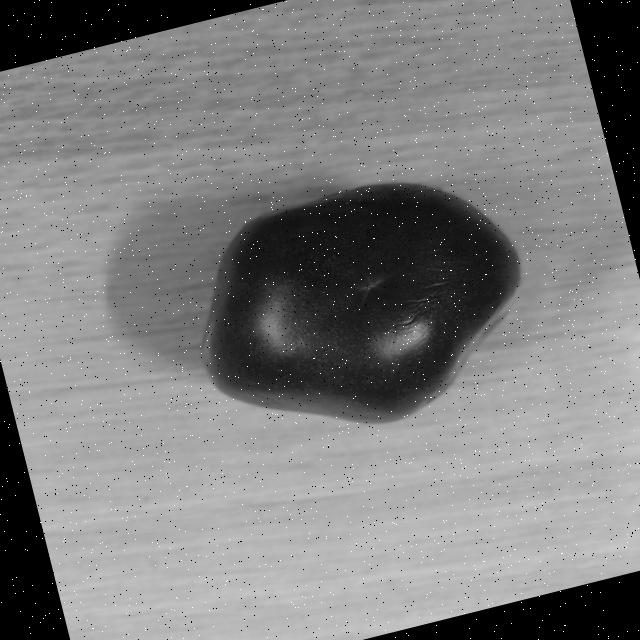Tomato: (166, 148, 553, 468)
